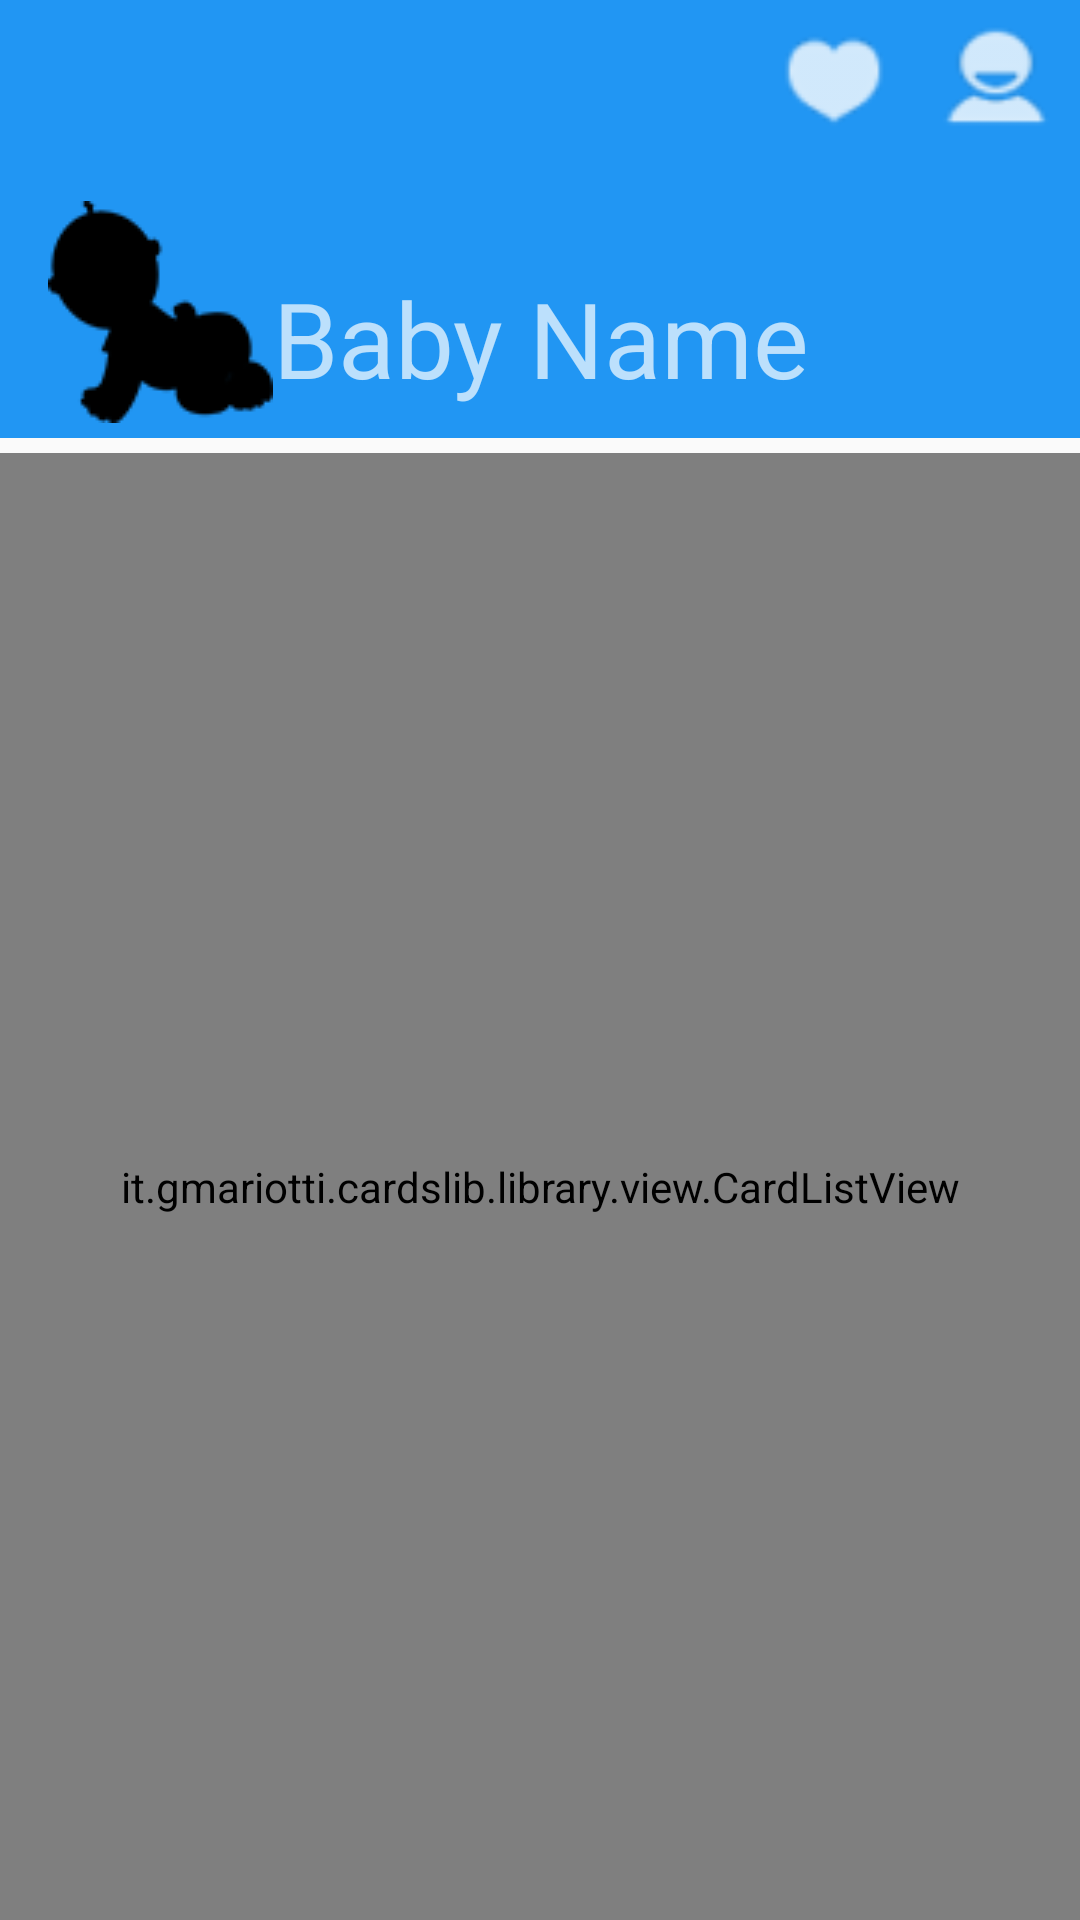

Locate icon controls on the screen. Image size 1080x1920, boxes as bbox=(x1, y1, x2, y2).
heart: bbox=(786, 38, 882, 123)
user: bbox=(947, 29, 1045, 123)
